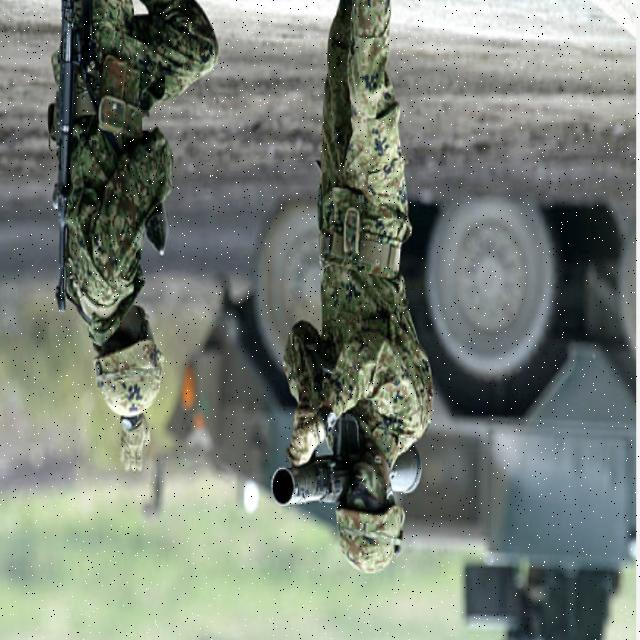bazooka: (273, 426, 442, 519)
